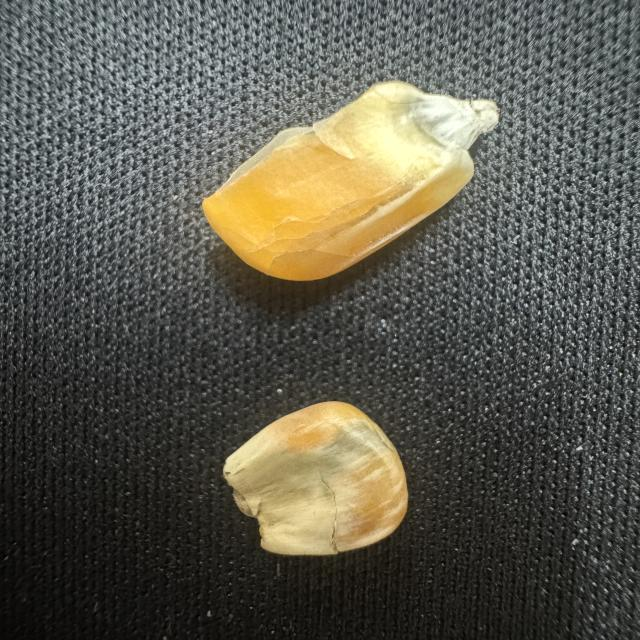Bad-Seed: (189, 75, 504, 297), (210, 389, 417, 569)
